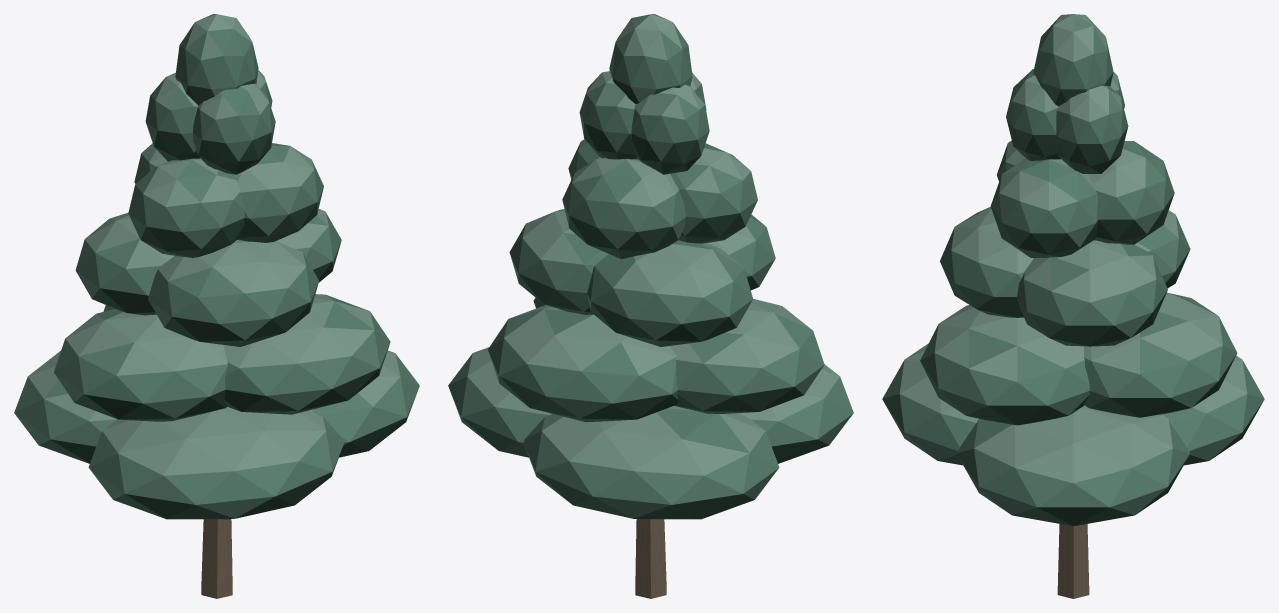
Rendered from SM_QD_Veg_Cedar.fbx.
3 renders of one model, left to right at view 1: azimuth 30°, elevation 25°; view 2: azimuth 150°, elevation 25°; view 3: azimuth 270°, elevation 25°, orthographic.
Parts seen in each view (by area): view 1: SM_QD_Veg_Cedar; view 2: SM_QD_Veg_Cedar; view 3: SM_QD_Veg_Cedar.
Part boxes in pixels (x1,y1,x2,y2): SM_QD_Veg_Cedar: [14, 14, 419, 598]; SM_QD_Veg_Cedar: [448, 14, 853, 598]; SM_QD_Veg_Cedar: [882, 14, 1264, 598].
Bounding box in the file's own units: 4.09 × 4.01 × 6.67.
Materials: 1 (1 with a texture image).
